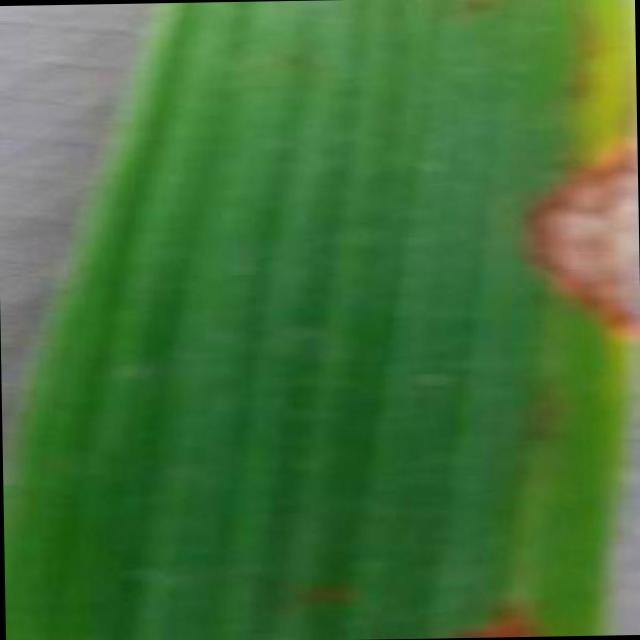Rice_Blast: (508, 120, 638, 330)
